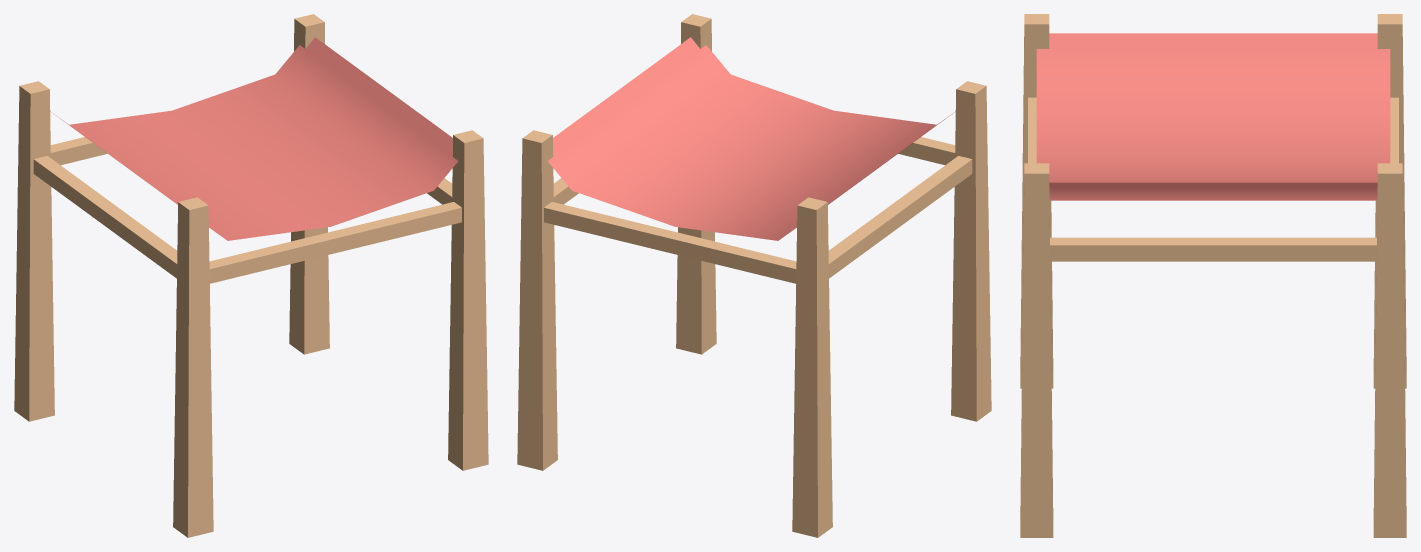
3 renders of one model, left to right at view 1: azimuth 30°, elevation 25°; view 2: azimuth 150°, elevation 25°; view 3: azimuth 270°, elevation 25°, orthographic. The views are drawn at different scales.
Visible parts, largest first — view 1: structureCloth; view 2: structureCloth; view 3: structureCloth.
Boxes of the visible parts, x1=… form: structureCloth: x1=14, y1=14, x2=488, y2=537; structureCloth: x1=517, y1=14, x2=991, y2=537; structureCloth: x1=1020, y1=14, x2=1406, y2=537.
Bounding box in the file's own units: 0.5 × 0.5175 × 0.5.
